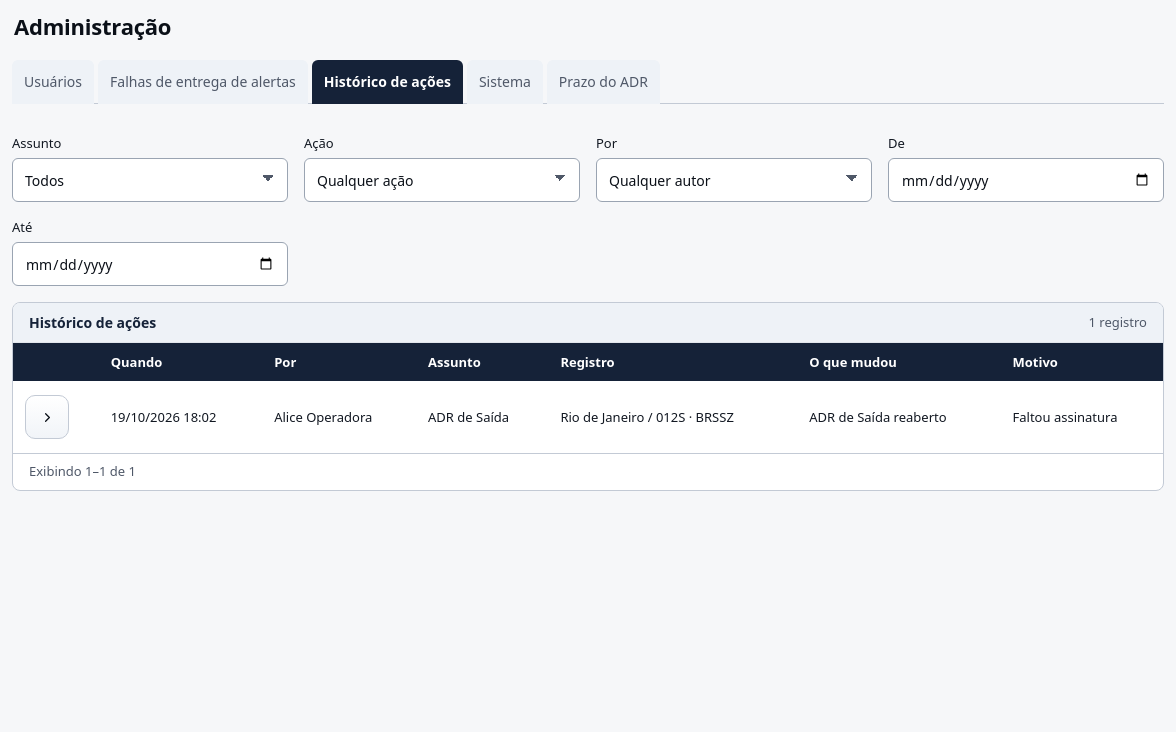
Test: Histórico de ações: ADR reaberto em português, com a Viagem pelo nome
Check: the text "Rio de Janeiro / 012S · BRSSZ" is shown, box [548, 381, 797, 453]
Click the button named "Abrir": point(47, 417) [25, 395, 69, 439]
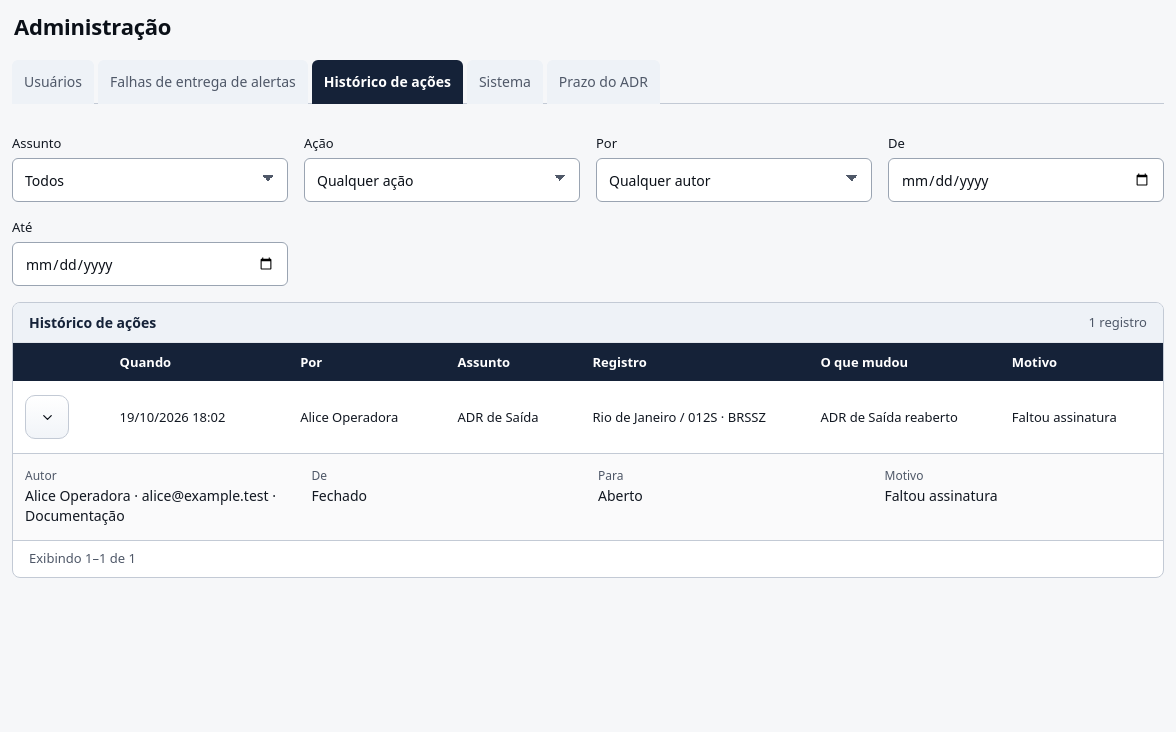
Check: the text "Fechado" is shown, box [312, 486, 367, 505]
Check: the text "Aberto" is shown, box [598, 486, 643, 505]
